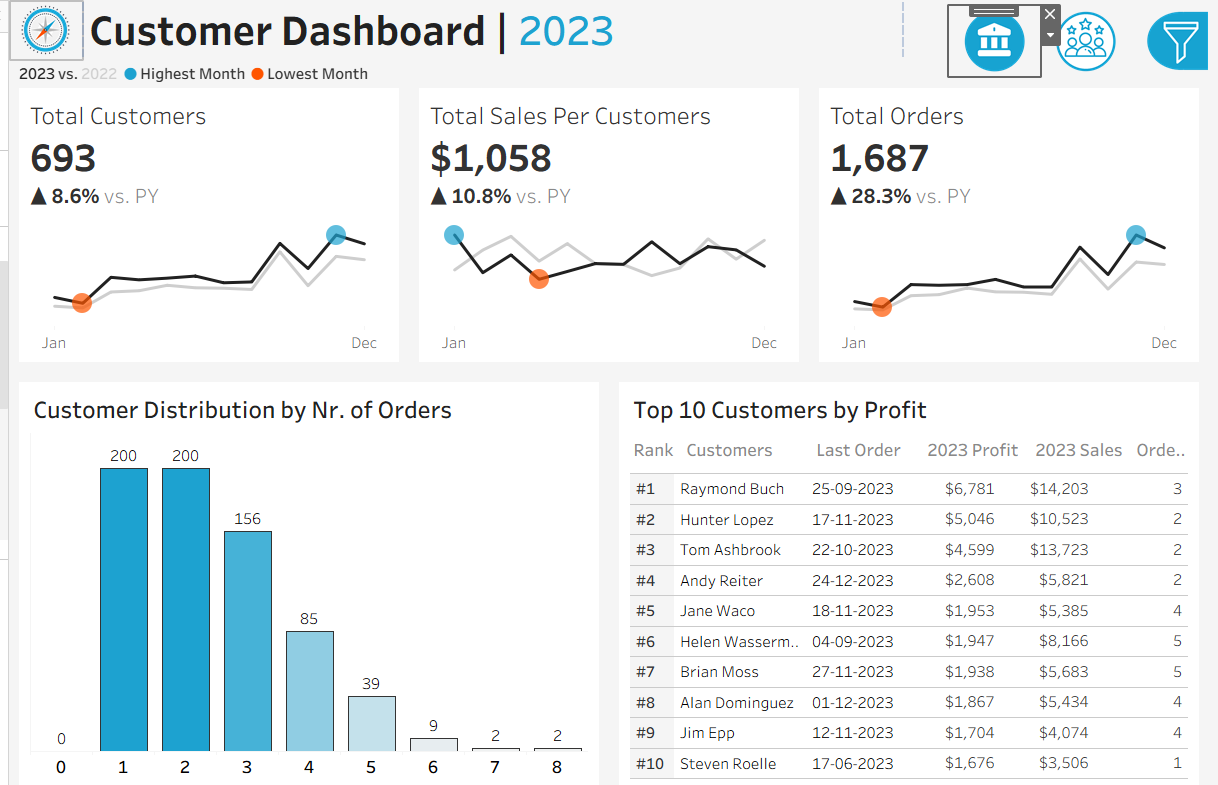

The dashboard page shown, as its layout file describes it:
{"tool":"tableau","page":{"name":"Customer Dashboard","canvas":[1200,800],"ordinal":0},"visuals":[{"type":"image","param":"Image/Icon - Logo.png","box":[0,0,73,59]},{"type":"text","box":[73,0,820,59]},{"type":"dashboard-object","box":[940,6,91,70]},{"type":"dashboard-object","box":[1031,6,91,70]},{"type":"blank","box":[952,10,237,86]},{"type":"worksheet","title":"Legend KPI","mark":"Automatic","box":[0,59,1200,29]},{"type":"worksheet","title":"KPI Customers","mark":"Automatic","rows":["Min/Max Quantity (copy)_3221481164588691468"],"cols":["Order Date"],"box":[0,88,400,284]},{"type":"worksheet","title":"KPI Sales Per Customers","mark":"Automatic","rows":["Min/Max Quantity (copy)_3221481164537155591"],"cols":["Order Date"],"box":[400,88,400,284]},{"type":"worksheet","title":"KPI Orders","mark":"Automatic","rows":["Min/Max Sales (copy)_3221481164601258003"],"cols":["Order Date"],"box":[800,88,400,284]},{"type":"text","box":[952,96,237,37]},{"type":"parameter","param":"[Parameters].[Parameter 1]","box":[952,133,237,55]},{"type":"text","box":[952,188,237,32]},{"type":"filter","title":"KPI Customers","param":"[federated.1kpxa041aiai2y1cl4pui1t4eju9].[none:Category:nk]","box":[952,220,237,57]},{"type":"filter","title":"KPI Customers","param":"[federated.1kpxa041aiai2y1cl4pui1t4eju9].[none:Sub-Category:nk]","box":[952,277,237,57]},{"type":"blank","box":[952,334,237,60]},{"type":"text","box":[17,389,566,37]},{"type":"text","box":[617,389,566,37]},{"type":"text","box":[952,394,237,32]},{"type":"worksheet","title":"Customer Distribution","mark":"Bar","rows":["CY Sales (copy)_3221481164532666369"],"cols":["Calculation_998110323739992064"],"box":[17,426,566,357]},{"type":"text","box":[617,426,53,40]},{"type":"text","box":[670,426,130,40]},{"type":"text","box":[800,426,111,40]},{"type":"text","box":[911,426,108,40]},{"type":"filter","title":"KPI Customers","param":"[federated.1kpxa041aiai2y1cl4pui1t4eju9].[none:Region:nk]","box":[952,426,237,57]},{"type":"text","box":[1019,426,101,40]},{"type":"text","box":[1120,426,63,40]},{"type":"worksheet","title":"Top Customers","mark":"Automatic","rows":["Calculation_782500491678904334","Customer Name","Order Date"],"box":[617,466,566,317]},{"type":"filter","title":"KPI Customers","param":"[federated.1kpxa041aiai2y1cl4pui1t4eju9].[none:State:nk]","box":[952,483,237,57]},{"type":"filter","title":"KPI Customers","param":"[federated.1kpxa041aiai2y1cl4pui1t4eju9].[none:City:nk]","box":[952,540,237,57]}]}

Visuals, with their boxes on the page's 1200x800 design canvas (x1, y1, x2, y2). These are canvas units, not pixel positions in the 1218x785 screenshot, which may show the page scaled, cropped or inside an application window:
image: 0:0:73:59
text: 73:0:893:59
dashboard-object: 940:6:1031:76
dashboard-object: 1031:6:1122:76
blank: 952:10:1189:96
"Legend KPI" worksheet: 0:59:1200:88
"KPI Customers" worksheet: 0:88:400:372
"KPI Sales Per Customers" worksheet: 400:88:800:372
"KPI Orders" worksheet: 800:88:1200:372
text: 952:96:1189:133
parameter: 952:133:1189:188
text: 952:188:1189:220
"KPI Customers" filter: 952:220:1189:277
"KPI Customers" filter: 952:277:1189:334
blank: 952:334:1189:394
text: 17:389:583:426
text: 617:389:1183:426
text: 952:394:1189:426
"Customer Distribution" worksheet (Bar marks): 17:426:583:783
text: 617:426:670:466
text: 670:426:800:466
text: 800:426:911:466
text: 911:426:1019:466
"KPI Customers" filter: 952:426:1189:483
text: 1019:426:1120:466
text: 1120:426:1183:466
"Top Customers" worksheet: 617:466:1183:783
"KPI Customers" filter: 952:483:1189:540
"KPI Customers" filter: 952:540:1189:597
